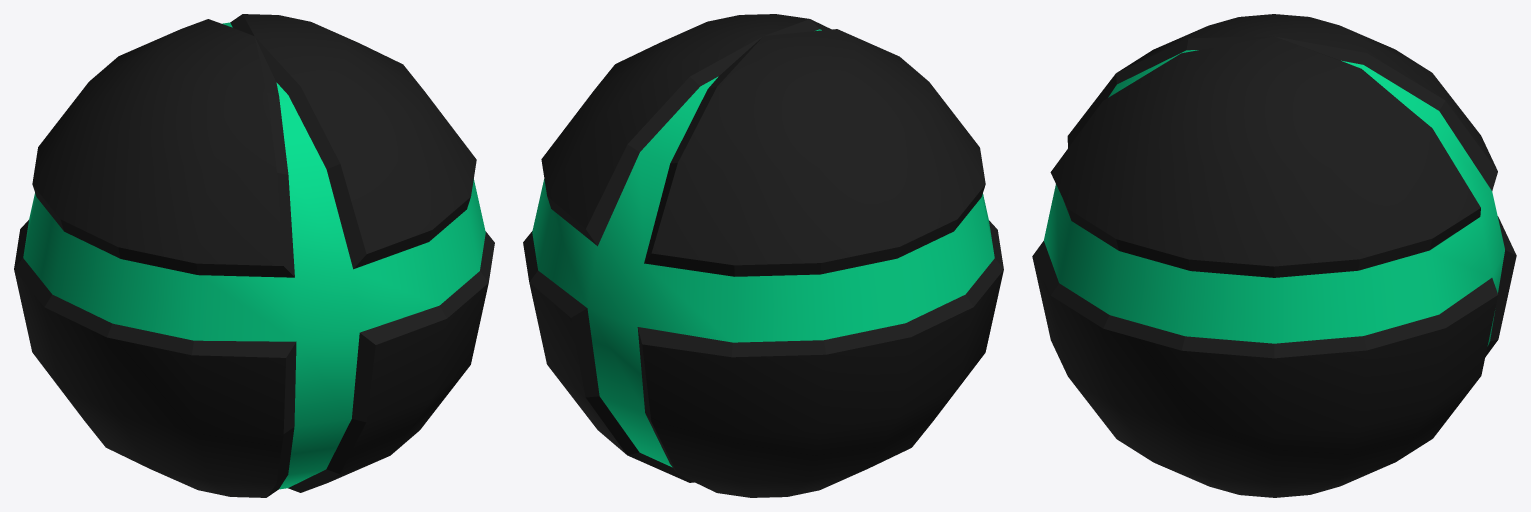
File: SmashPlanet.FBX
3 renders of one model, left to right at view 1: azimuth 30°, elevation 25°; view 2: azimuth 150°, elevation 25°; view 3: azimuth 270°, elevation 25°, orthographic.
Parts seen in each view (by area): view 1: Sphere007; view 2: Sphere007; view 3: Sphere007.
Part boxes in pixels (x1,y1,x2,y2): Sphere007: (14, 14, 494, 497); Sphere007: (523, 14, 1003, 497); Sphere007: (1032, 14, 1516, 497).
Bounding box in the file's own units: 72.11 × 72.11 × 72.11.
